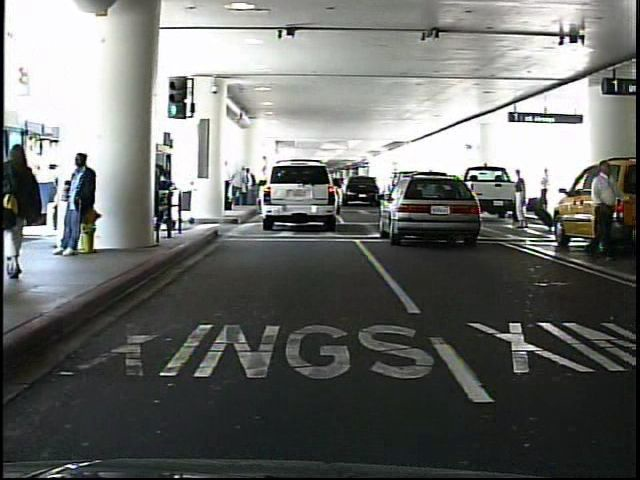person: (0, 141, 51, 275), (60, 149, 99, 258), (587, 156, 623, 262), (509, 169, 529, 232), (540, 167, 553, 214), (243, 167, 257, 207)
